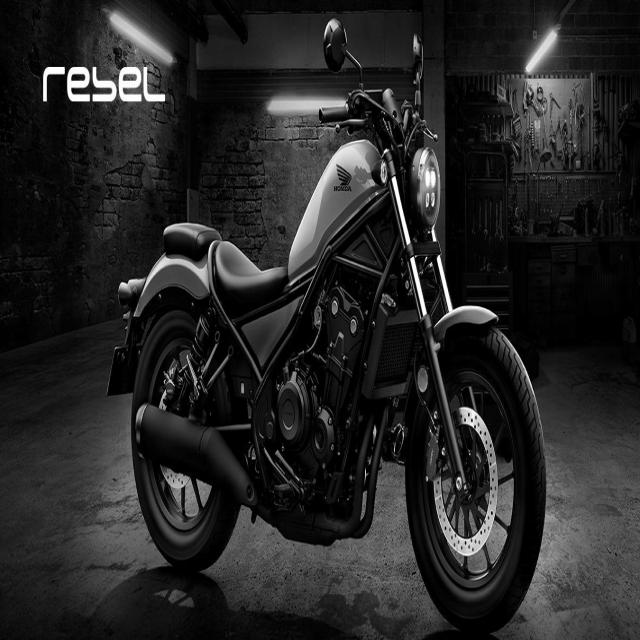Motorcycle: (107, 72, 547, 632)
